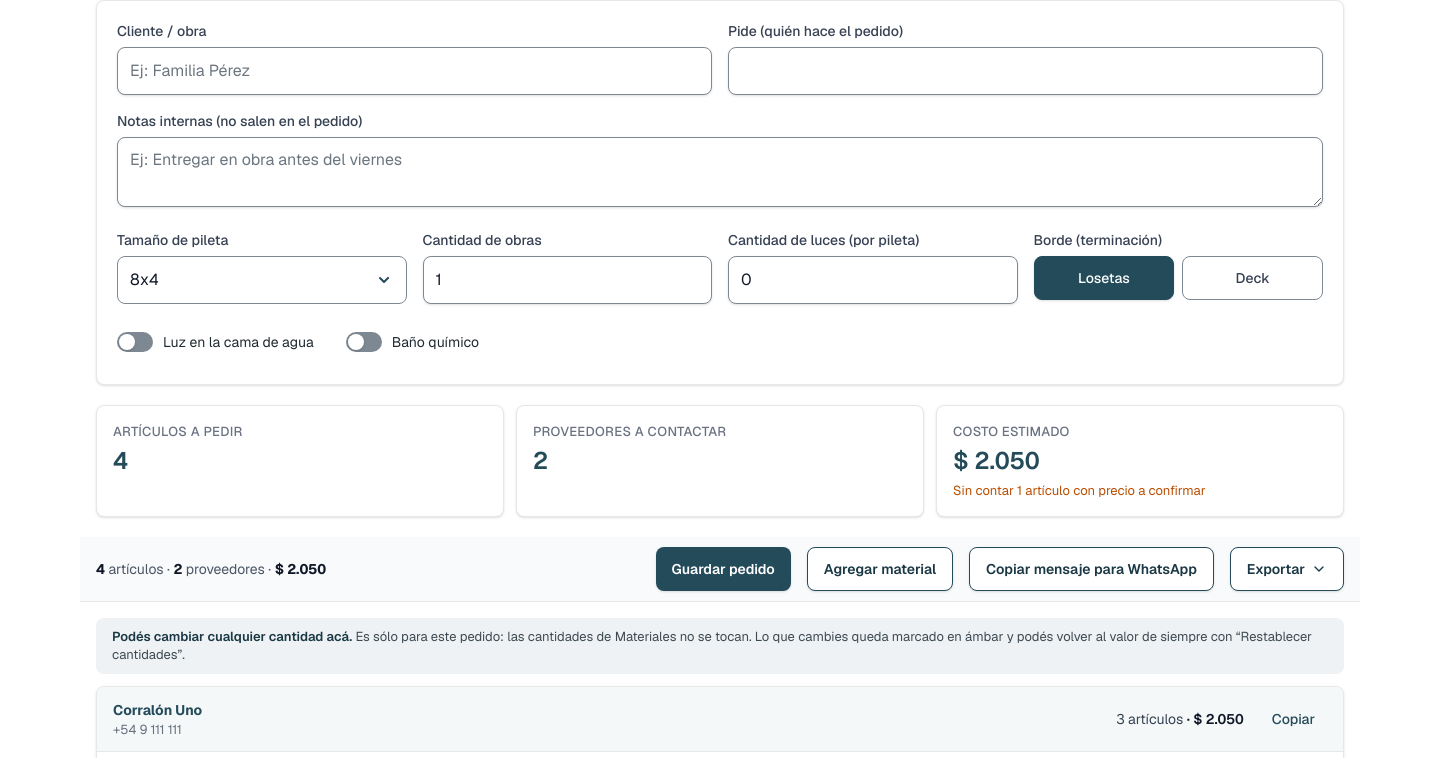
Armar pedido › se puede agregar un material que la cuenta no pide, con su cantidad: suma al pedido y al costo
Expected: the element named "Resumen del pedido" is shown, [96,405,1344,517]
Click the button "Agregar material" at [880, 569], box [807,547,953,591]
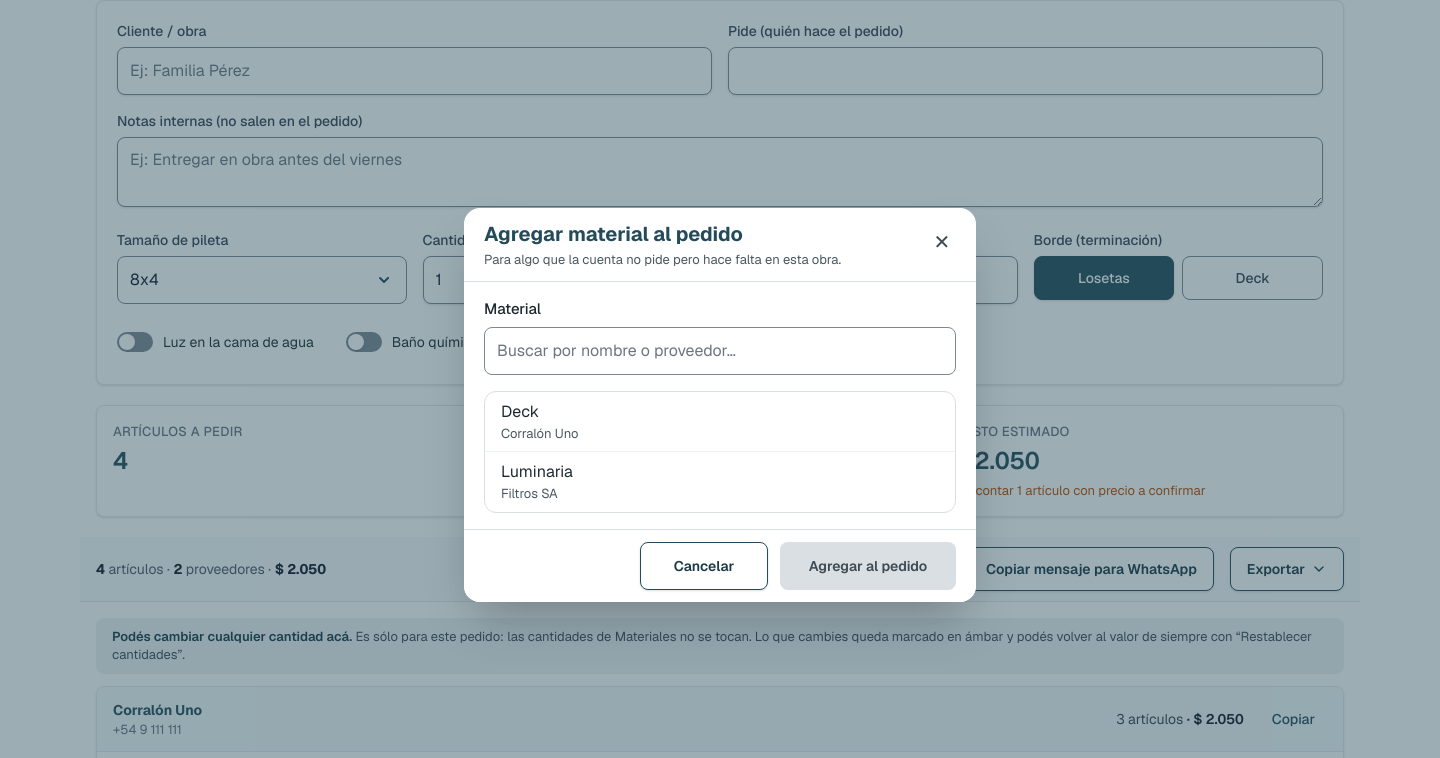
Click the button "Deck Corralón Uno" at [520, 411], box [485,392,955,451]
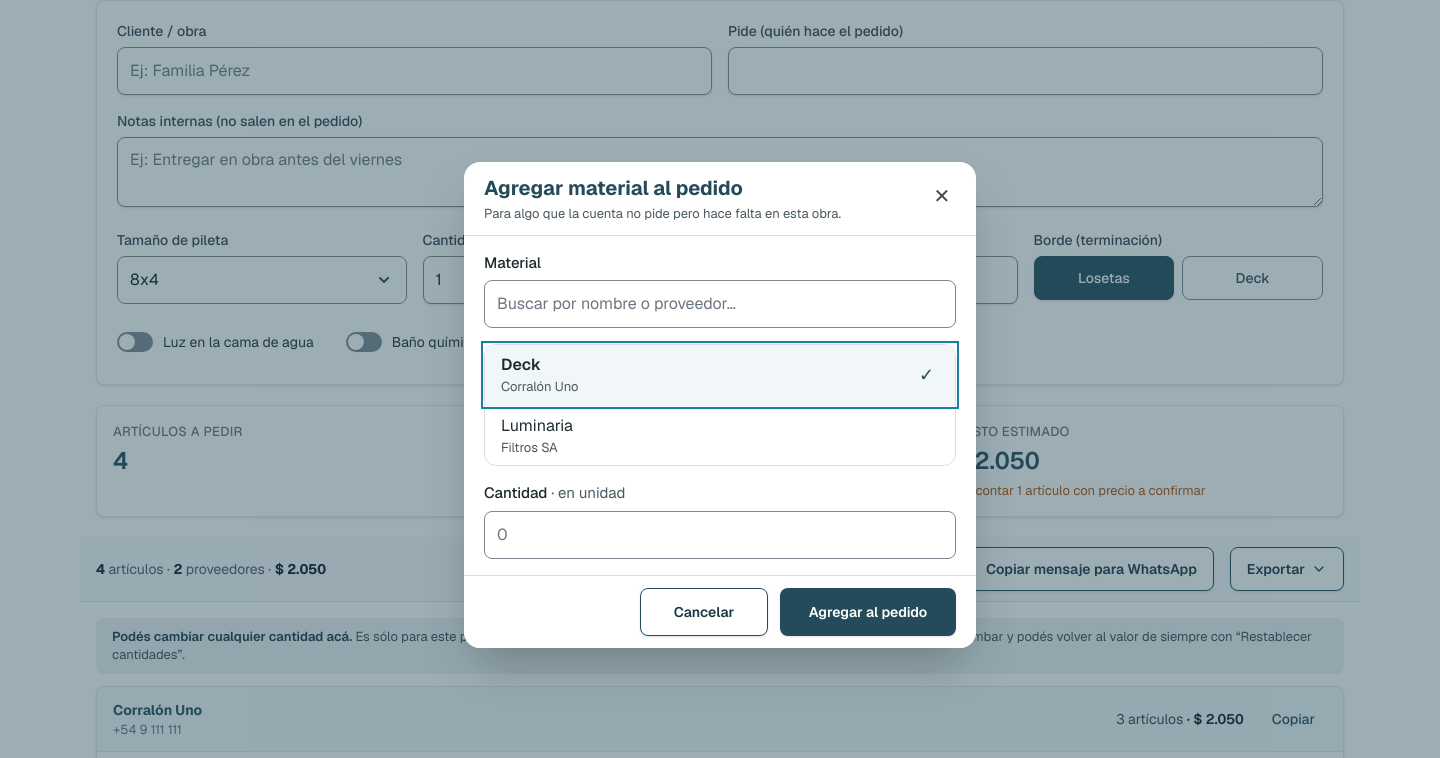
Type "3" into the field labelled "Cantidad · en unidad" at [720, 535], box [484,511,956,559]
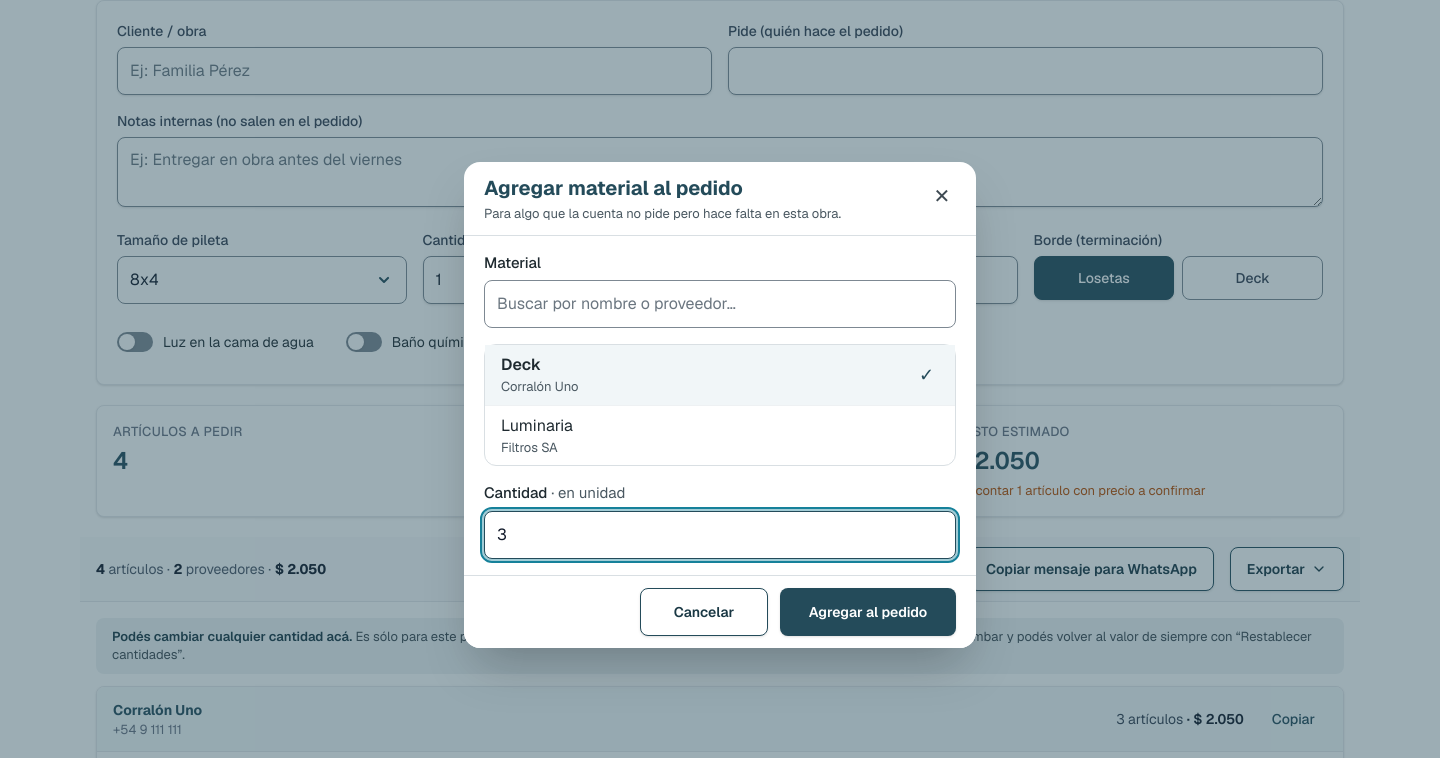
Click the button "Agregar al pedido" at [868, 612], box [780,588,956,636]
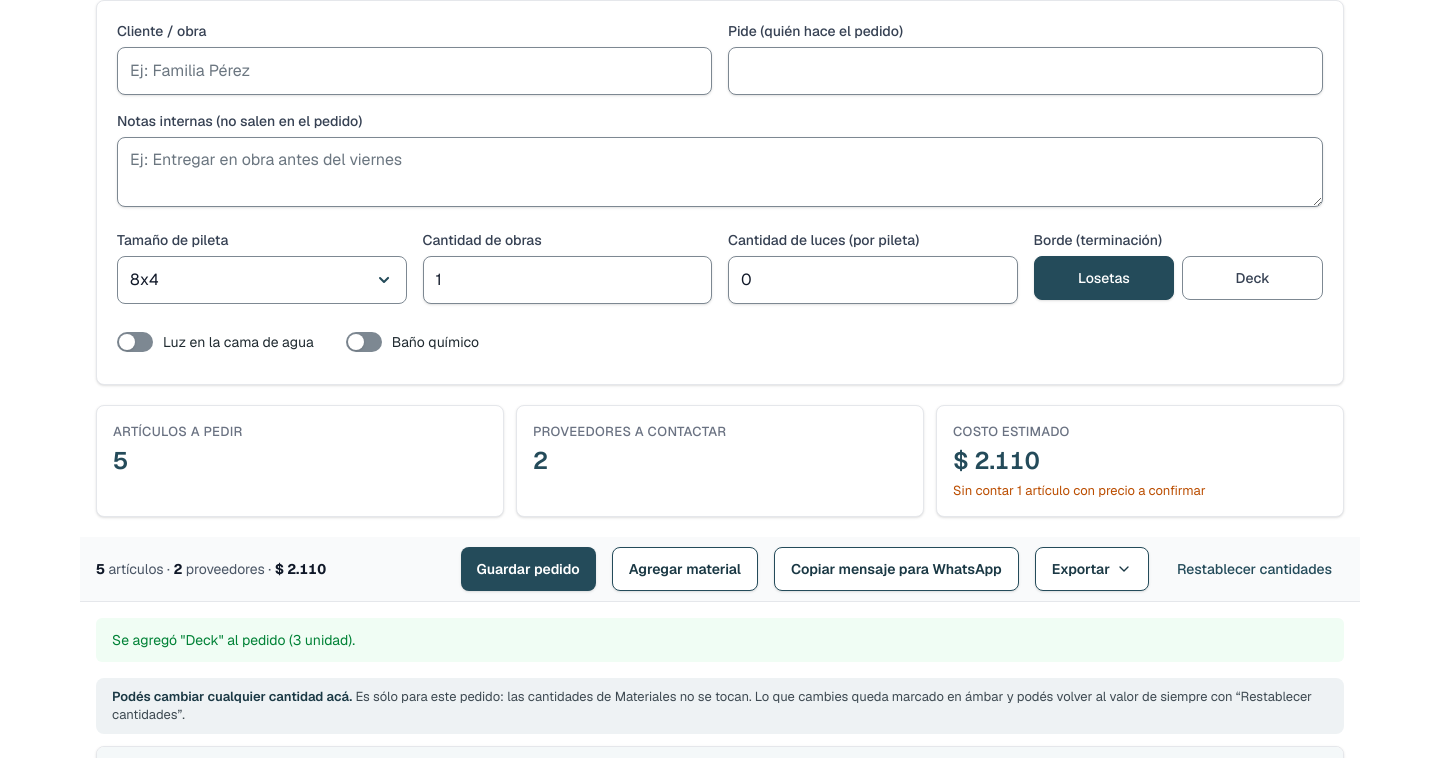
Expected: the heading "Agregar material al pedido" is gone
Expected: the text "Se agregó \"Deck\" al pedido (3 unidad)." is shown, [96,618,1344,662]
